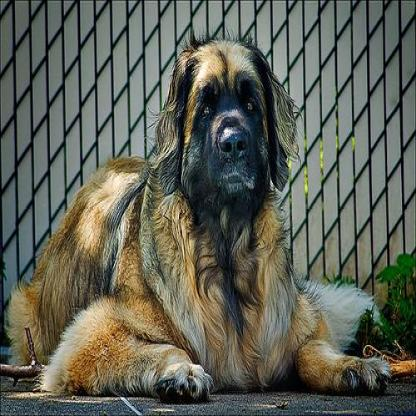Leonberg: (5, 35, 394, 401)
